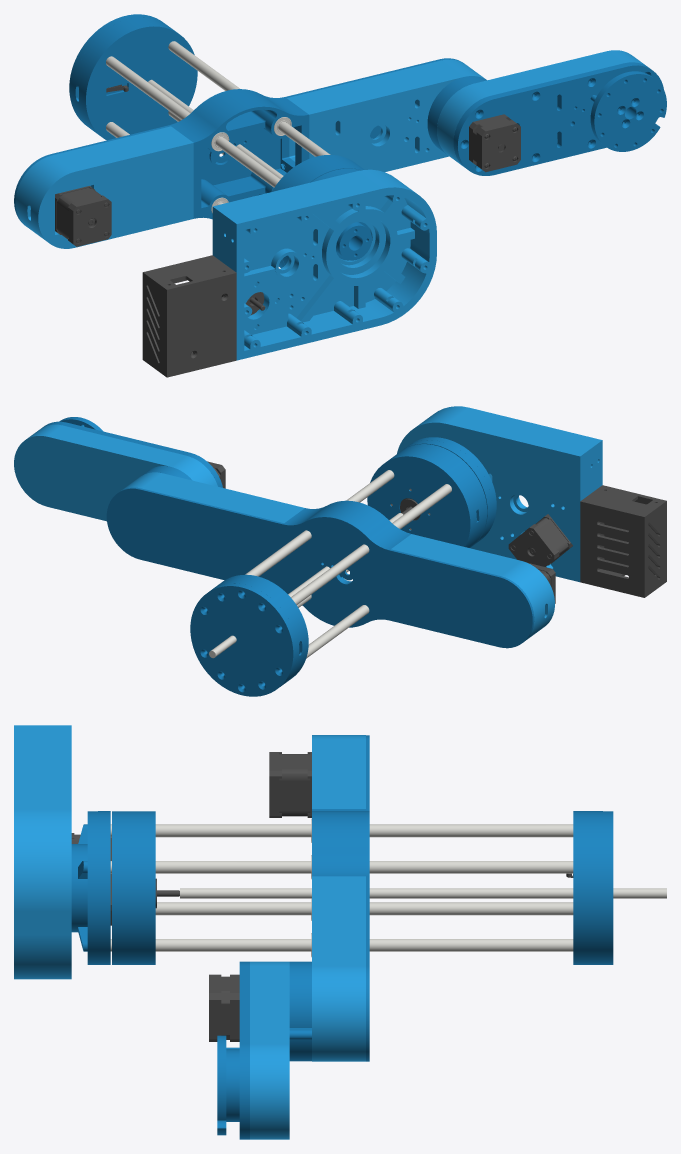
The model's file is robot.gltf.
3 views of the same model, one above another, from view 1: azimuth 30°, elevation 25°; view 2: azimuth 150°, elevation 25°; view 3: azimuth 270°, elevation 25° (orthographic). The views are drawn at different scales.
Visible parts, largest first — view 1: Base_Base, brazodelcontrapeso_Arm 1, Arm 1_Arm 1, Top cover_Top cover, Z-axis Mount Platform_Z-axis Mount Platform, Arm 2 Cover_Arm 2 Cover, Arduino UNO case p1_Arduino UNO case p1, J3 Coupler_J3 Coupler, Arm 2_Arm 2, Stepper NEMA 17 - 20mm shaft_Stepper NEMA 17 - 20mm shaft002, NEMA 17 Stepper L24mm - 20mm shaft_NEMA 17 Stepper L24mm - 2, Smooth Rod D10mm L400mm_Smooth Rod D10mm L400mm (+7 smaller); view 2: Base_Base, Arm 1 Cover_Arm 1 Cover, Z-axis Mount Platform_Z-axis Mount Platform, Arm 2_Arm 2, tapa_brazo_contrapeso_Arm 1 Cover, Z-axis Top Plate_Z-axis Top Plate, Base cover_Base cover, Arduino UNO case p2_Arduino UNO case p2, brazodelcontrapeso_Arm 1, Arm 1_Arm 1, Arduino UNO case p1_Arduino UNO case p1, Stepper NEMA 17 - 20mm shaft_Stepper NEMA 17 - 20mm shaft (+8 smaller); view 3: Base_Base, Arm 1_Arm 1, Arm 2_Arm 2, Base cover_Base cover, Smooth Rod D10mm L400mm_Smooth Rod D10mm L400mm, Smooth Rod D10mm L400mm_Smooth Rod D10mm L400mm001, Smooth Rod D10mm L400mm_Smooth Rod D10mm L400mm002, Smooth Rod D10mm L400mm_Smooth Rod D10mm L400mm003, Top cover_Top cover, Lead Screw D8mm L380mm_Lead Screw D8mm L380mm, brazodelcontrapeso_Arm 1, Z-axis Mount Platform_Z-axis Mount Platform (+9 smaller).
Boxes of the visible parts, x1,y1,x2,y2 form: Base_Base: (212, 169, 436, 360); brazodelcontrapeso_Arm 1: (15, 126, 193, 248); Arm 1_Arm 1: (287, 59, 485, 171); Top cover_Top cover: (73, 17, 197, 140); Z-axis Mount Platform_Z-axis Mount Platform: (170, 89, 309, 219); Arm 2 Cover_Arm 2 Cover: (453, 62, 663, 175); Arduino UNO case p1_Arduino UNO case p1: (142, 255, 236, 377); J3 Coupler_J3 Coupler: (590, 71, 666, 151); Arm 2_Arm 2: (437, 50, 645, 165); Stepper NEMA 17 - 20mm shaft_Stepper NEMA 17 - 20mm shaft002: (55, 186, 111, 246); NEMA 17 Stepper L24mm - 20mm shaft_NEMA 17 Stepper L24mm - 2: (469, 114, 520, 172); Smooth Rod D10mm L400mm_Smooth Rod D10mm L400mm: (106, 56, 280, 187); Base_Base: (397, 406, 602, 582); Arm 1 Cover_Arm 1 Cover: (106, 487, 283, 588); Z-axis Mount Platform_Z-axis Mount Platform: (282, 500, 410, 627); Arm 2_Arm 2: (14, 424, 217, 521); tapa_brazo_contrapeso_Arm 1 Cover: (389, 549, 534, 648); Z-axis Top Plate_Z-axis Top Plate: (190, 583, 297, 696); Base cover_Base cover: (367, 444, 487, 547); Arduino UNO case p2_Arduino UNO case p2: (584, 488, 660, 596); brazodelcontrapeso_Arm 1: (391, 534, 554, 640); Arm 1_Arm 1: (121, 472, 304, 522); Arduino UNO case p1_Arduino UNO case p1: (580, 485, 666, 597); Stepper NEMA 17 - 20mm shaft_Stepper NEMA 17 - 20mm shaft: (508, 514, 572, 566); Base_Base: (14, 725, 71, 979); Arm 1_Arm 1: (312, 876, 365, 1061); Arm 2_Arm 2: (250, 961, 289, 1139); Base cover_Base cover: (112, 811, 155, 964); Smooth Rod D10mm L400mm_Smooth Rod D10mm L400mm: (110, 824, 573, 837); Smooth Rod D10mm L400mm_Smooth Rod D10mm L400mm001: (155, 902, 573, 915); Smooth Rod D10mm L400mm_Smooth Rod D10mm L400mm002: (110, 939, 573, 951); Smooth Rod D10mm L400mm_Smooth Rod D10mm L400mm003: (110, 861, 573, 873); Top cover_Top cover: (573, 811, 602, 964); Lead Screw D8mm L380mm_Lead Screw D8mm L380mm: (180, 888, 666, 898); brazodelcontrapeso_Arm 1: (312, 735, 365, 808); Z-axis Mount Platform_Z-axis Mount Platform: (312, 809, 369, 876).
Bounding box in the file's own units: 0.64 × 0.14 × 0.5095.
